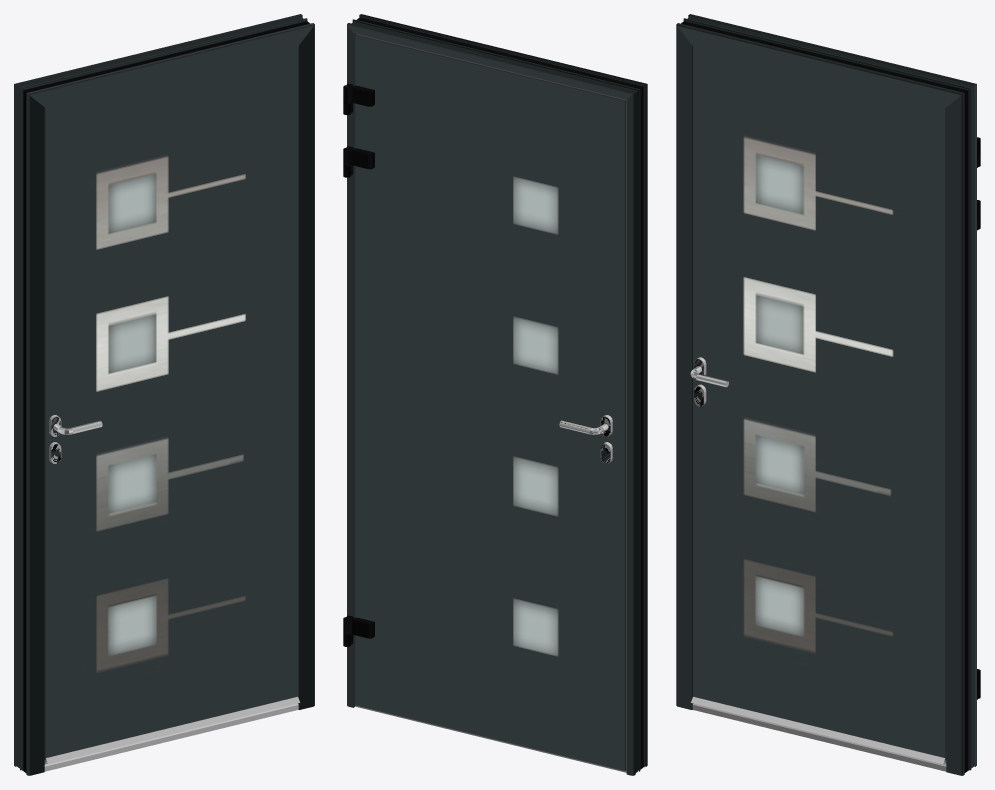
3 views of the same model, side by side, from view 1: azimuth 30°, elevation 25°; view 2: azimuth 150°, elevation 25°; view 3: azimuth 330°, elevation 25° (orthographic).
Visible parts, largest first — view 1: ouvrant, 85; view 2: ouvrant, 85; view 3: ouvrant, 85.
Boxes of the visible parts, x1,y1,x2,y2 form: ouvrant: (44, 46, 300, 764); 85: (14, 14, 314, 775); ouvrant: (343, 34, 626, 770); 85: (343, 14, 647, 775); ouvrant: (691, 46, 980, 764); 85: (676, 14, 980, 775).
Bounding box in the file's own units: 96 × 218 × 22.64.
1 material, 1 textured.
